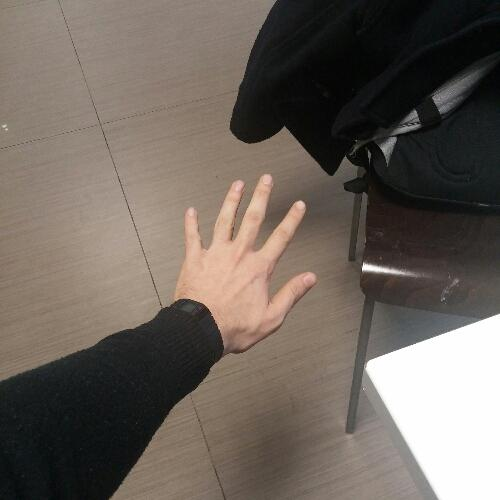paper: (167, 165, 326, 366)
